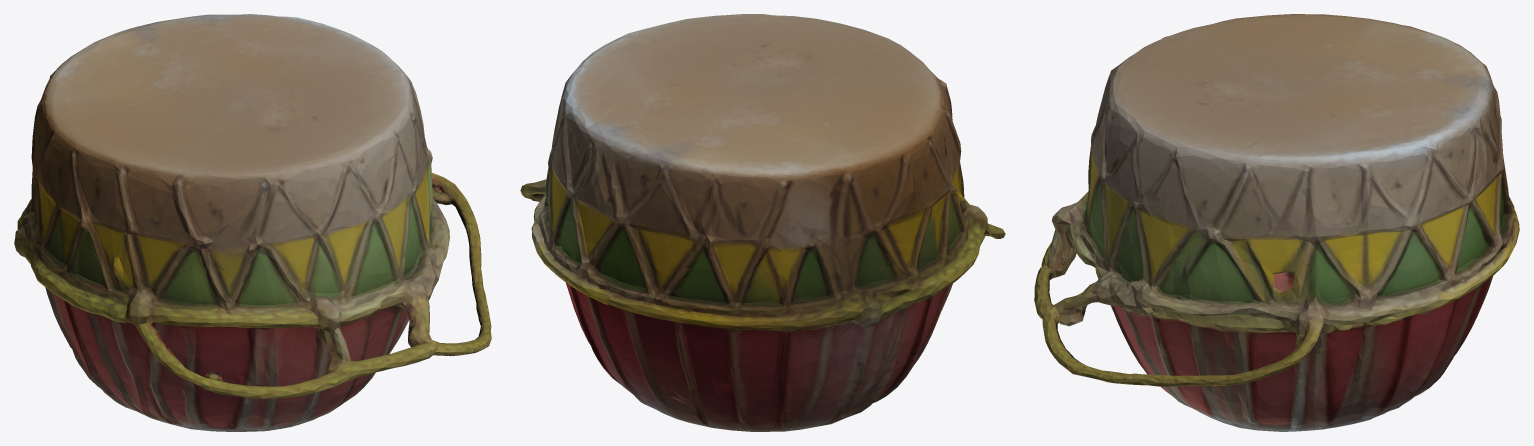
Rendered from bengkulu.glb.
3 views of the same model, side by side, from view 1: azimuth 30°, elevation 25°; view 2: azimuth 150°, elevation 25°; view 3: azimuth 270°, elevation 25° (orthographic). The views are drawn at different scales.
Visible parts, largest first — view 1: world; view 2: world; view 3: world.
Boxes of the visible parts, bbox=[...] form: world: bbox=[14, 14, 491, 431]; world: bbox=[520, 14, 1005, 431]; world: bbox=[1034, 14, 1519, 431].
Size of the model in its own units: 0.4183 by 0.2821 by 0.4061.
1 material, 1 textured.
